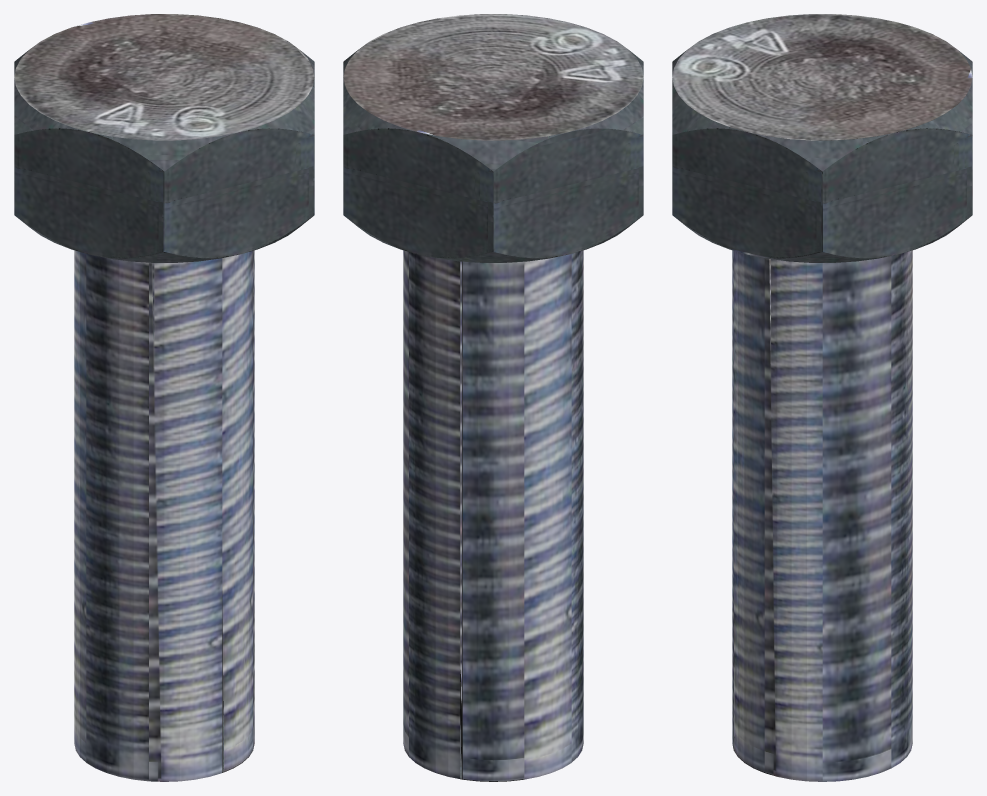
Rendered from bolt.obj.
The picture shows the model from 3 angles, left to right: view 1: azimuth 30°, elevation 25°; view 2: azimuth 150°, elevation 25°; view 3: azimuth 270°, elevation 25°; orthographic projection.
Parts seen in each view (by area): view 1: bolt_isaac; view 2: bolt_isaac; view 3: bolt_isaac.
Part boxes in pixels (bbox=[...]): bolt_isaac: bbox=[14, 14, 314, 781]; bolt_isaac: bbox=[343, 14, 643, 781]; bolt_isaac: bbox=[672, 14, 972, 781].
Bounding box in the file's own units: 0.0231 × 0.049 × 0.02.
1 material, 1 textured.
